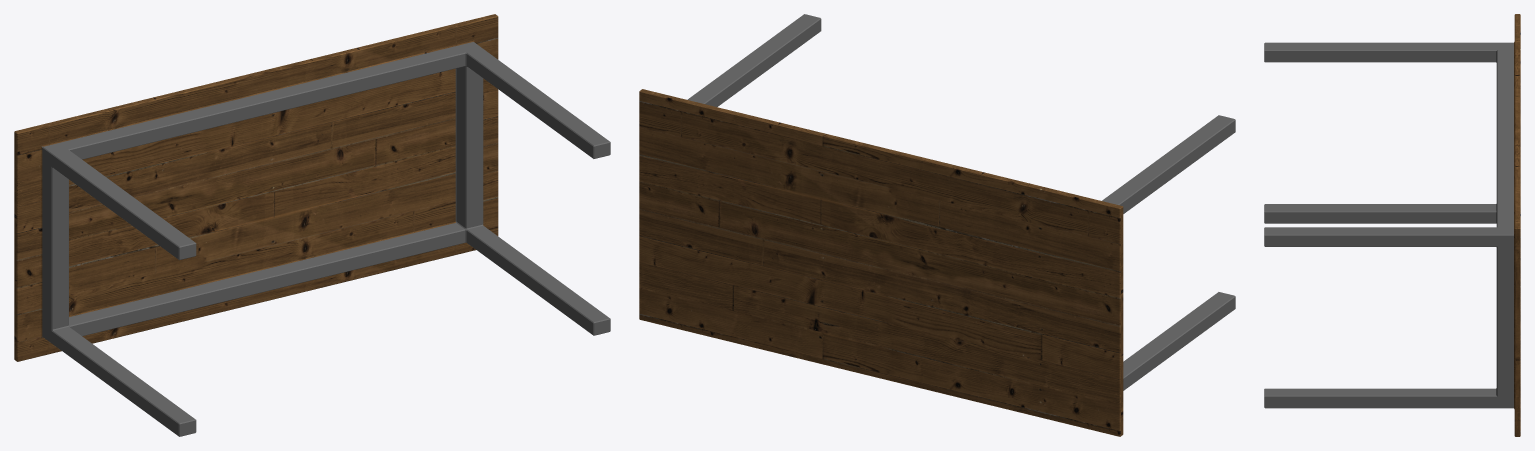
Rendered from Table.dae.
3 views of the same model, side by side, from view 1: azimuth 30°, elevation 25°; view 2: azimuth 150°, elevation 25°; view 3: azimuth 270°, elevation 25° (orthographic). The views are drawn at different scales.
Visible parts, largest first — view 1: Plane; view 2: Plane; view 3: Plane.
Part boxes in pixels (x1,y1,x2,y2): Plane: [14, 14, 610, 436]; Plane: [639, 14, 1235, 436]; Plane: [1264, 14, 1520, 436].
Size of the model in its own units: 2 by 1.01 by 0.9087.
